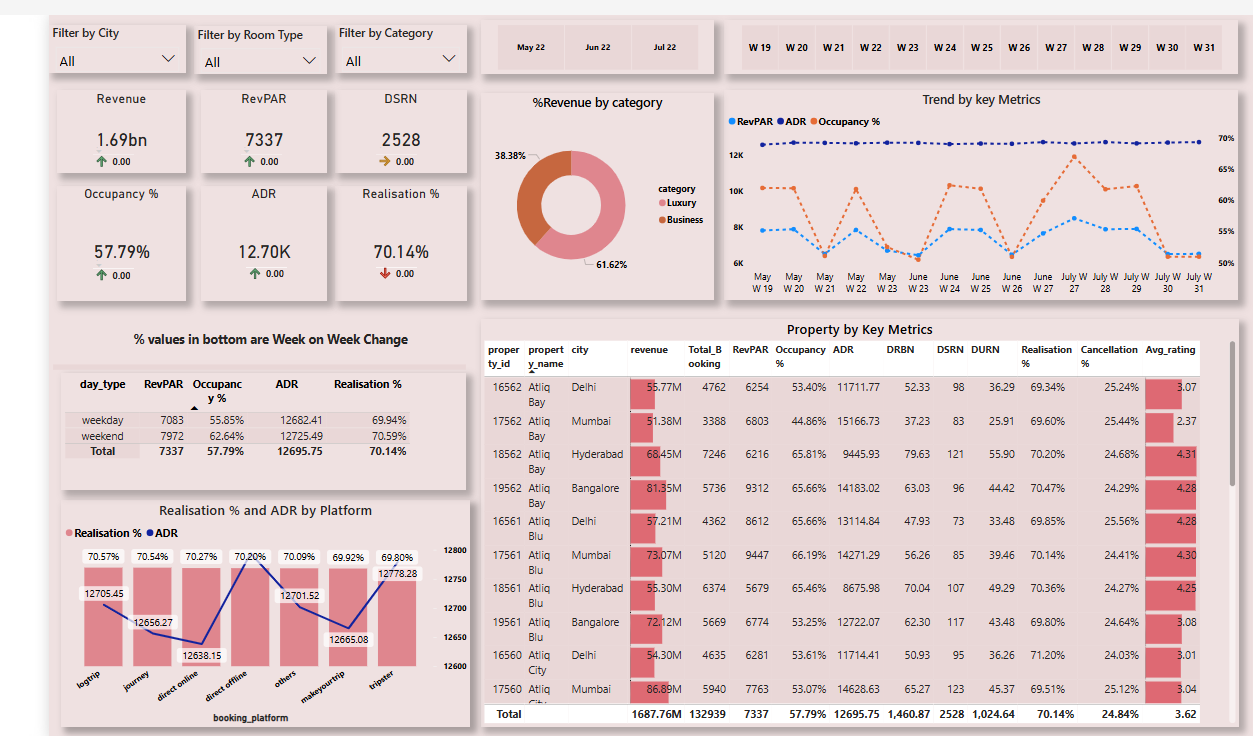

What the dashboard file says about the page in this screenshot:
{"tool":"powerbi","page":{"name":"Final ReportReport","canvas":[1794,1083],"ordinal":0},"visuals":[{"type":"tableEx","title":"Property by Key Metrics","fields":{"Values":["Dim_Hotel.property_id","Dim_Hotel.property_name","Dim_Hotel.city","Key_measures.revenue","Key_measures.Total_Booking","Key_measures.RevPAR","Key_measures.Occupancy %","Key_measures.ADR","Key_measures.DRBN","Key_measures.DSRN","Key_measures.DURN","Key_measures.Realisation %"]},"box":[642.3,452.9,1130.2,607.3],"z":0},{"type":"slicer","title":"Filter by City","fields":{"Values":["Dim_Hotel.city"]},"box":[0,14.4,203.8,72.1],"z":1000},{"type":"slicer","title":"Filter by Category","fields":{"Values":["Dim_Hotel.category"]},"box":[426.2,14.4,195.6,72.1],"z":2000},{"type":"slicer","title":"Filter by City","fields":{"Values":["Dim_Date.mmm yy"]},"box":[642.3,8.2,347.9,80.3],"z":3000},{"type":"slicer","title":"Filter by City","fields":{"Values":["Dim_Date.week no"]},"box":[1006.7,8.2,765.8,80.3],"z":4000},{"type":"card","title":"Revenue","fields":{"Values":["Key_measures.revenue"]},"box":[12.4,113.2,191.5,123.5],"z":5000},{"type":"tableEx","fields":{"Values":["Key_measures.Revenue WoW charge %"]},"box":[61.8,185.3,82.3,51.5],"z":6000},{"type":"card","title":"RevPAR","fields":{"Values":["Key_measures.RevPAR"]},"box":[226.5,113.2,187.3,123.5],"z":7000},{"type":"card","title":"Occupancy %","fields":{"Values":["Key_measures.Occupancy %"]},"box":[12.4,255.3,191.5,170.9],"z":8000},{"type":"tableEx","fields":{"Values":["Key_measures.Revpar WoW change %"]},"box":[282,185.3,82.3,51.5],"z":9000},{"type":"card","title":"Realisation %","fields":{"Values":["Key_measures.Realisation %"]},"box":[426.2,255.3,195.6,170.9],"z":10000},{"type":"card","title":"DSRN","fields":{"Values":["Key_measures.DSRN"]},"box":[426.2,113.2,195.6,123.5],"z":11000},{"type":"card","title":"ADR","fields":{"Values":["Key_measures.ADR"]},"box":[226.5,255.3,187.3,170.9],"z":12000},{"type":"tableEx","fields":{"Values":["Key_measures.DSRN WoW change %"]},"box":[483.8,185.3,84.4,49.4],"z":13000},{"type":"tableEx","fields":{"Values":["Key_measures.Occupancy WoW change %"]},"box":[61.8,356.2,84.4,49.4],"z":14000},{"type":"tableEx","fields":{"Values":["Key_measures.ADR WoW change %"]},"box":[290.3,354.1,84.4,49.4],"z":15000},{"type":"tableEx","fields":{"Values":["Key_measures.Realisation WoW change %"]},"box":[483.8,354.1,86.5,51.5],"z":16000},{"type":"donutChart","title":"%Revenue by category","fields":{"Y":["Key_measures.revenue"],"Category":["Dim_Hotel.category"]},"box":[642.3,117.3,347.9,308.8],"z":17000},{"type":"lineChart","title":"Trend by key Metrics","fields":{"Category":["Dim_Date.mmm yy.Variation.Date Hierarchy.Month","Dim_Date.week no"],"Y":["Key_measures.RevPAR","Key_measures.ADR"],"Y2":["Key_measures.Occupancy %"]},"box":[1006.7,113.2,765.8,312.9],"z":18000},{"type":"lineStackedColumnComboChart","title":"Realisation % and ADR by Platform","fields":{"Category":["fact_bookings.booking_platform"],"Y":["Key_measures.Realisation %"],"Y2":["Key_measures.ADR"]},"box":[18.5,722.6,609.4,337.6],"z":19000},{"type":"tableEx","fields":{"Values":["Dim_Date.day_type","Key_measures.RevPAR","Key_measures.Occupancy %","Key_measures.ADR","Key_measures.Realisation %"]},"box":[18.5,533.2,603.2,175],"z":20000},{"type":"slicer","title":"Filter by Room Type","fields":{"Values":["dim_rooms.room_class"]},"box":[216.2,16.5,197.6,72.1],"z":21000},{"type":"shape","box":[6.2,516.7,615.6,16.5],"z":22000},{"type":"textbox","box":[32.9,465.3,595,51.5],"z":23000}]}

Visuals, with their boxes in screenshot pixels (x1, y1, x2, y2), scaled from the page's 1794x1083 canvas onto the 1253x736 screenshot:
"Property by Key Metrics" tableEx: rect(449, 308, 1238, 721)
"Filter by City" slicer: rect(0, 10, 142, 59)
"Filter by Category" slicer: rect(298, 10, 434, 59)
"Filter by City" slicer: rect(449, 6, 692, 60)
"Filter by City" slicer: rect(703, 6, 1238, 60)
"Revenue" card: rect(9, 77, 142, 161)
tableEx - Key_measures.Revenue WoW charge %: rect(43, 126, 101, 161)
"RevPAR" card: rect(158, 77, 289, 161)
"Occupancy %" card: rect(9, 174, 142, 290)
tableEx - Key_measures.Revpar WoW change %: rect(197, 126, 254, 161)
"Realisation %" card: rect(298, 174, 434, 290)
"DSRN" card: rect(298, 77, 434, 161)
"ADR" card: rect(158, 174, 289, 290)
tableEx - Key_measures.DSRN WoW change %: rect(338, 126, 397, 160)
tableEx - Key_measures.Occupancy WoW change %: rect(43, 242, 102, 276)
tableEx - Key_measures.ADR WoW change %: rect(203, 241, 262, 274)
tableEx - Key_measures.Realisation WoW change %: rect(338, 241, 398, 276)
"%Revenue by category" donutChart: rect(449, 80, 692, 290)
"Trend by key Metrics" lineChart: rect(703, 77, 1238, 290)
"Realisation % and ADR by Platform" lineStackedColumnComboChart: rect(13, 491, 439, 721)
tableEx - Dim_Date.day_type x Key_measures.RevPAR: rect(13, 362, 434, 481)
"Filter by Room Type" slicer: rect(151, 11, 289, 60)
shape: rect(4, 351, 434, 362)
textbox: rect(23, 316, 439, 351)
